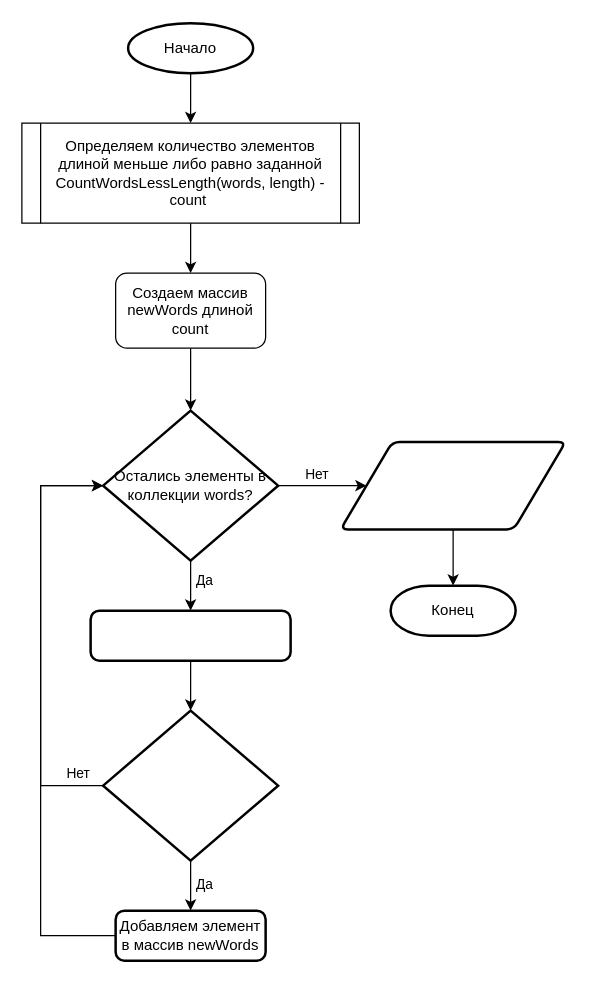
This 589x983 diagram has some shape labels left out. The box of each missing label's shape, as (x1, y1, x2, y2) in pixels:
Возвращаем массив newWords: (339, 440, 566, 530)
Длина элемента меньше либо равна length?: (101, 709, 279, 861)
Определяем следующий элемент коллекции: (89, 609, 291, 661)
